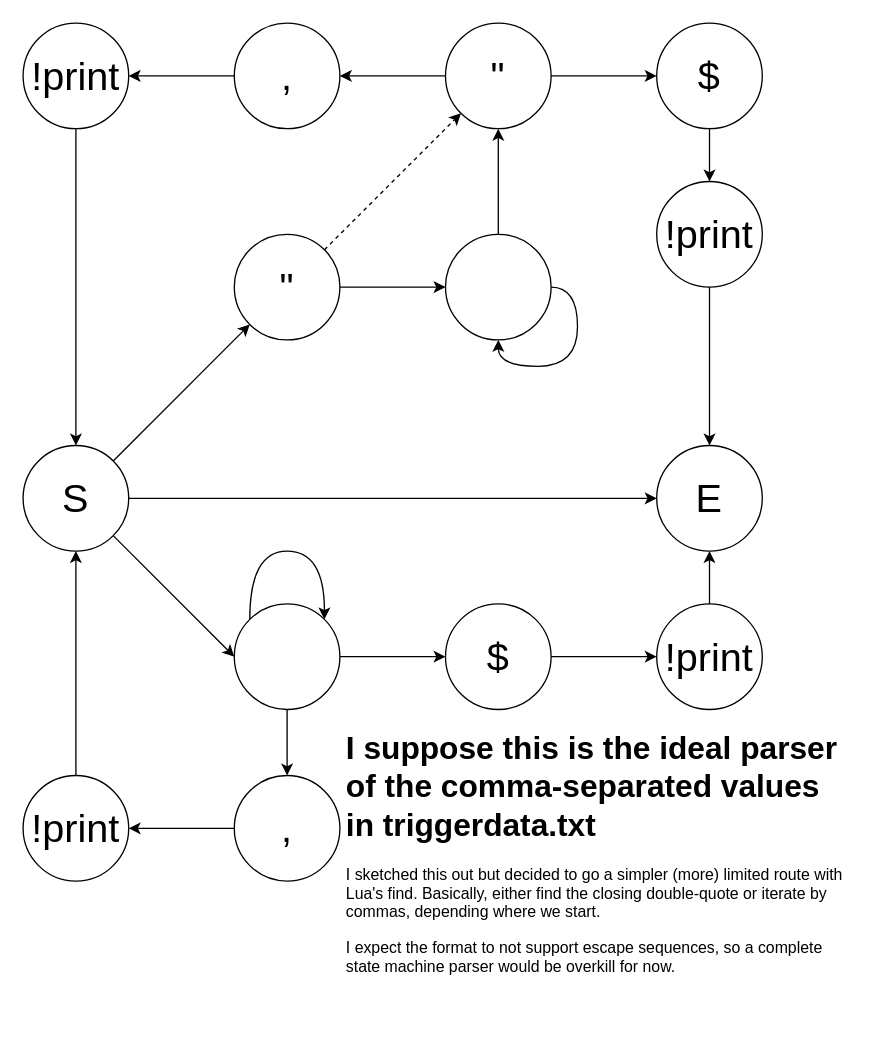
This 878x1063 diagram has some shape labels left out. The shapes that lost their labels are listed below. From the top down, each one's centre as x and y in pixels, then its label:
point (497, 286): not "
point (286, 656): any
